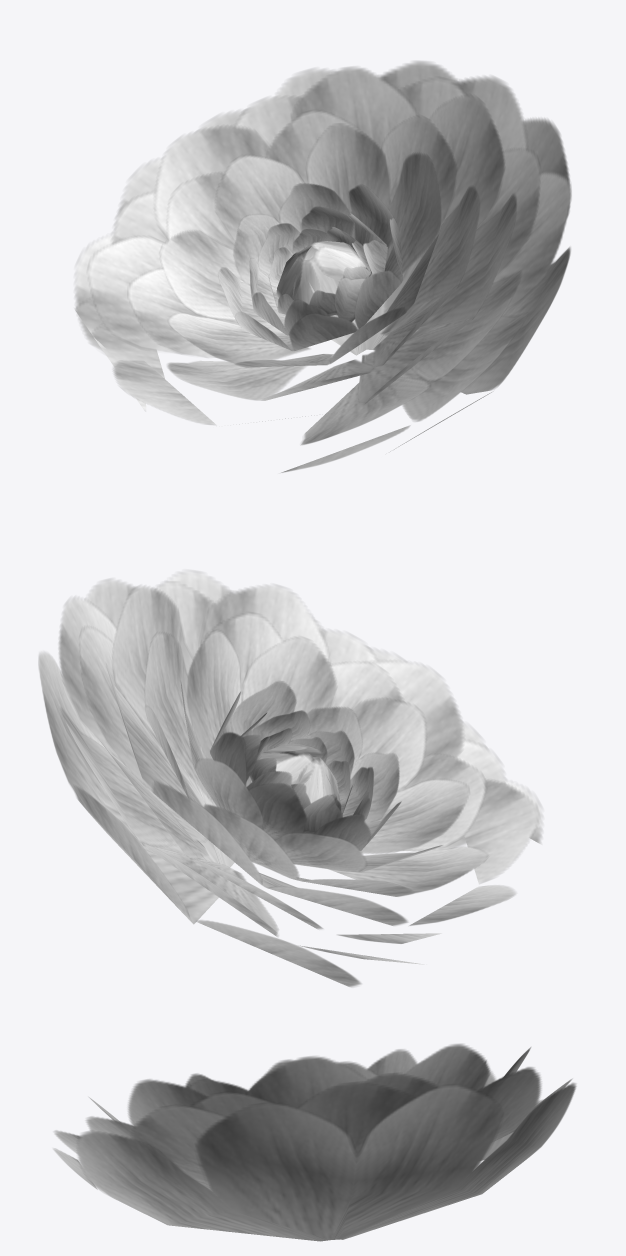
Rendered from ranunculus.glb.
3 renders of one model, top to bottom at view 1: azimuth 30°, elevation 25°; view 2: azimuth 150°, elevation 25°; view 3: azimuth 270°, elevation 25°, orthographic. The views are drawn at different scales.
Visible parts, largest first — view 1: Cylinder.004_ranunculus_transparent_1_0; view 2: Cylinder.004_ranunculus_transparent_1_0; view 3: Cylinder.004_ranunculus_transparent_1_0.
Part boxes in pixels (box(x1,y1,x2,y2)): Cylinder.004_ranunculus_transparent_1_0: box(74, 61, 571, 472); Cylinder.004_ranunculus_transparent_1_0: box(38, 570, 542, 987); Cylinder.004_ranunculus_transparent_1_0: box(53, 1044, 576, 1241).
Bounding box in the file's own units: 0.2857 × 0.1761 × 0.3485.
Materials: 1 (1 with a texture image).
